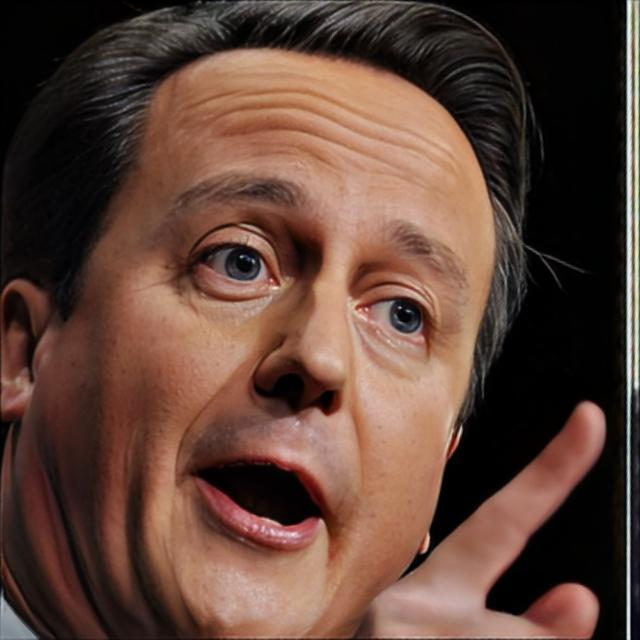surprise: (46, 47, 497, 640)
